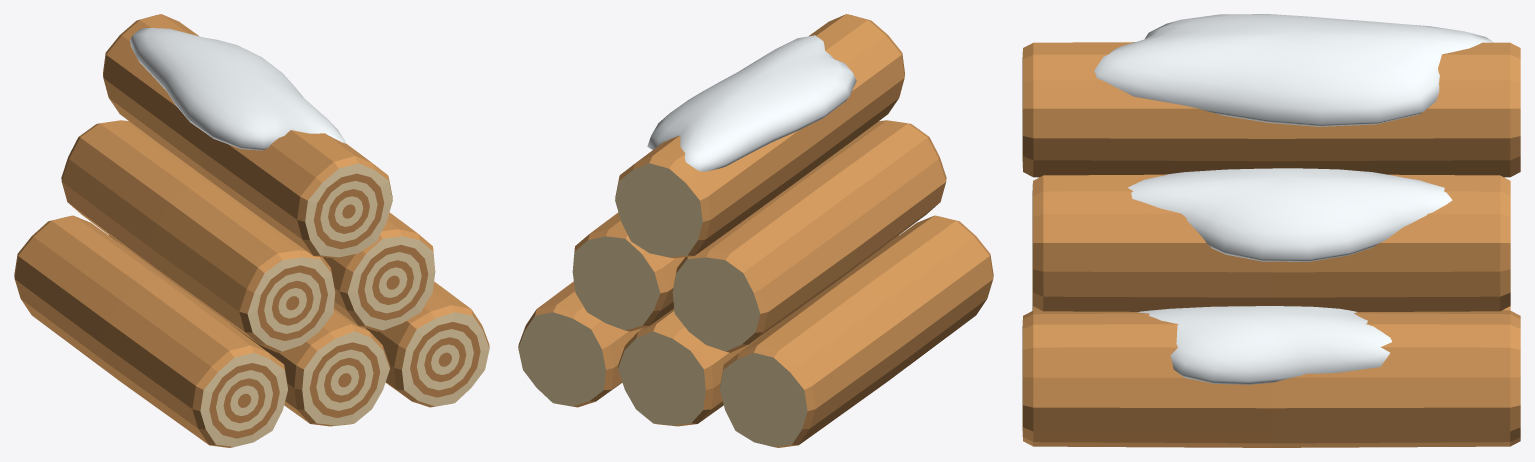
The model's file is Env_LogPile.glb.
3 renders of one model, left to right at view 1: azimuth 30°, elevation 25°; view 2: azimuth 150°, elevation 25°; view 3: azimuth 270°, elevation 25°, orthographic. The views are drawn at different scales.
Visible parts, largest first — view 1: Env_LogPile_Logs, Env_LogPile_Snow; view 2: Env_LogPile_Logs, Env_LogPile_Snow; view 3: Env_LogPile_Logs, Env_LogPile_Snow.
Part boxes in pixels (<box>): Env_LogPile_Logs: <box>14,14,489,447</box>; Env_LogPile_Snow: <box>130,28,345,150</box>; Env_LogPile_Logs: <box>518,14,993,447</box>; Env_LogPile_Snow: <box>647,35,856,171</box>; Env_LogPile_Logs: <box>1022,42,1520,447</box>; Env_LogPile_Snow: <box>1094,14,1493,384</box>.
Bounding box in the file's own units: 0.5986 × 0.56 × 0.721.
